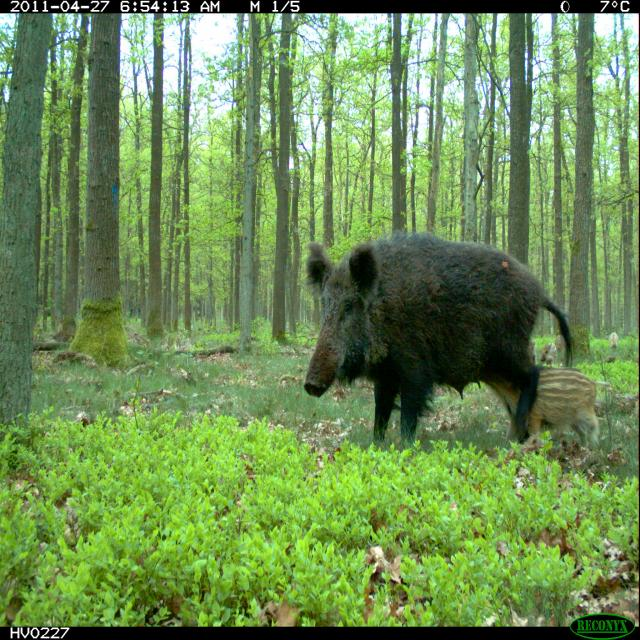boar: (274, 205, 594, 473), (485, 331, 611, 464)
